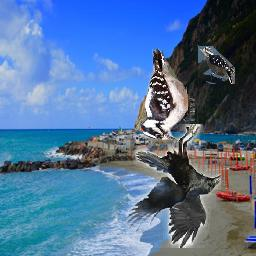Crow: (127, 124, 222, 248)
Woodpecker: (139, 46, 196, 142), (199, 46, 236, 84)
